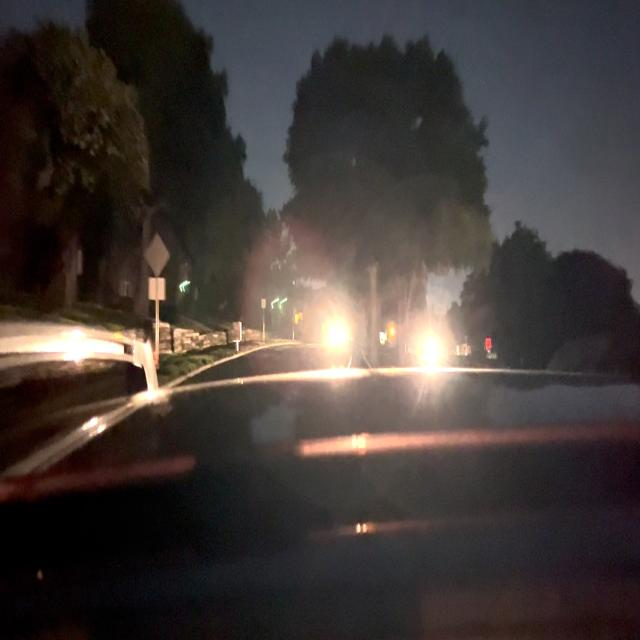back-of-sign: (146, 234, 168, 303)
